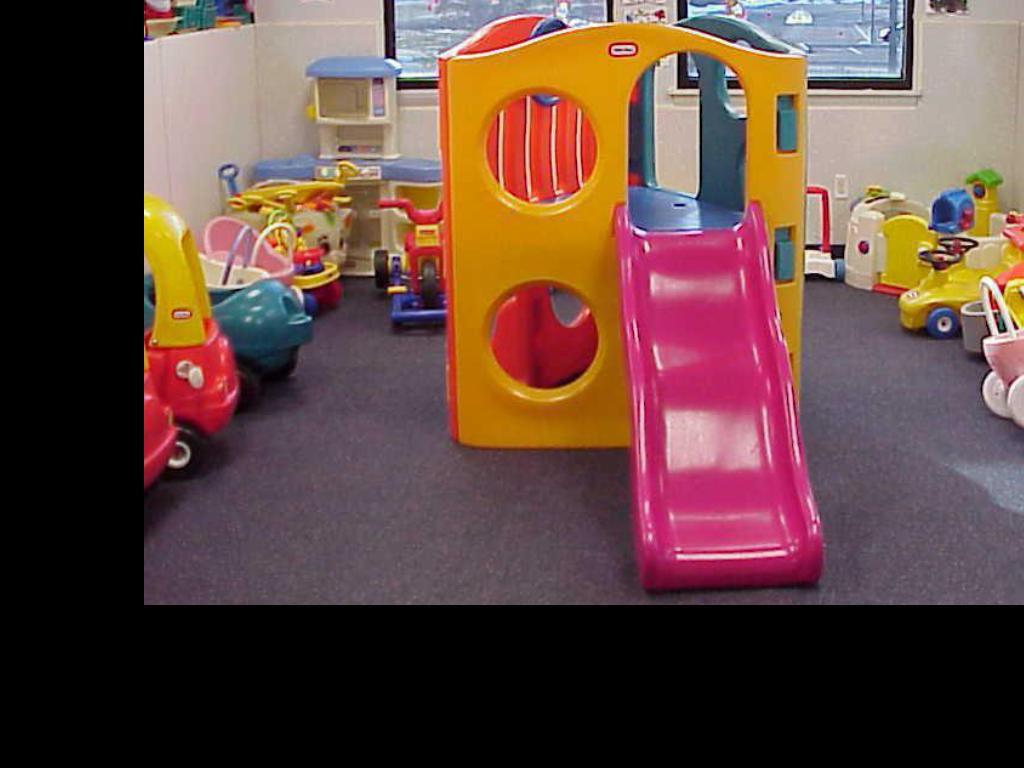Otro Obstaculo: (433, 26, 854, 597), (46, 196, 234, 474), (44, 253, 197, 516), (142, 260, 318, 414), (862, 175, 1018, 305), (916, 228, 1024, 329), (368, 202, 448, 333), (967, 265, 1024, 435)
